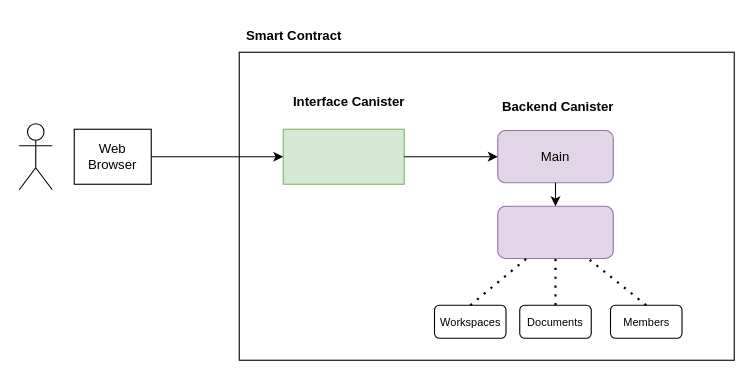
The diagram is 754 pixels wide and 380 high, and some of its shapes have lost their labels. Here are the shapes that lost their labels. From the top down, the centre of each, then its label:
the point at 35,156: User
the point at 343,156: Web Application
the point at 555,231: Storage
